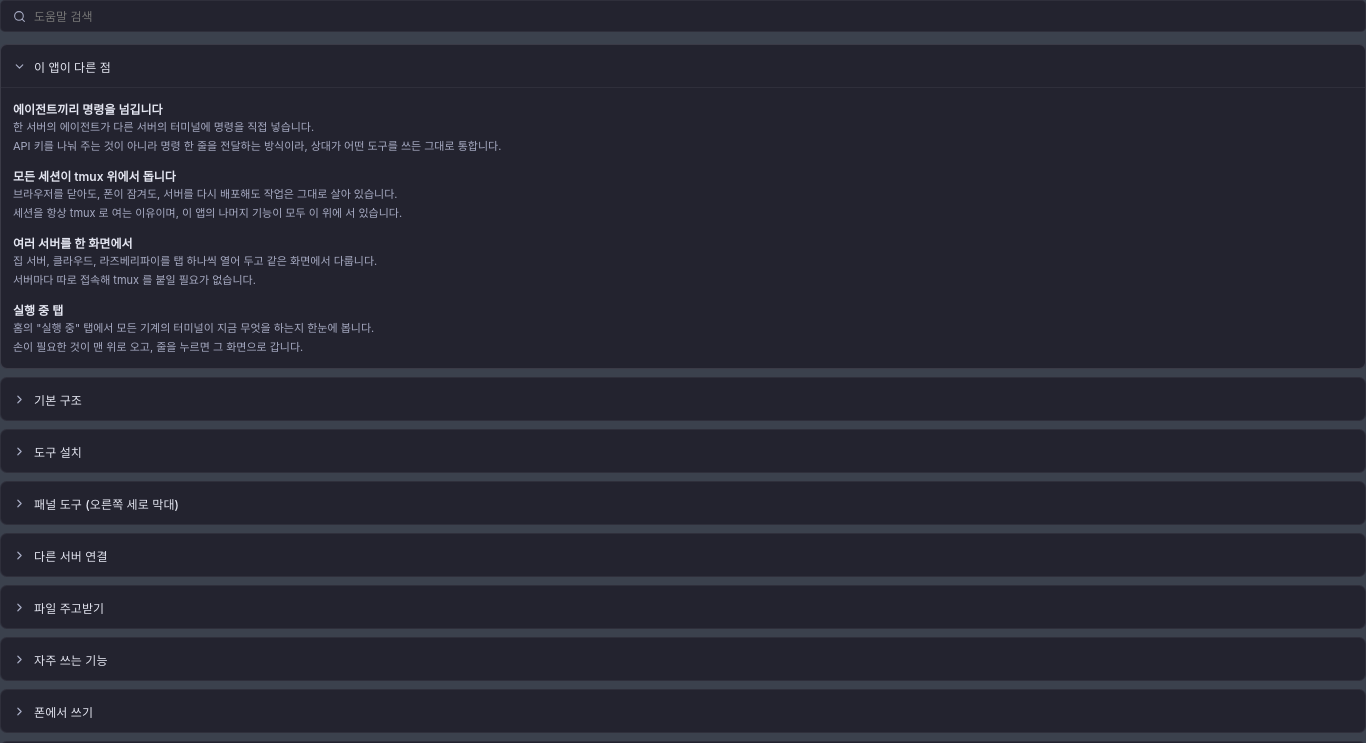
Test: HelpPanel › 검색 결과는 펼친 채로 나온다 — 접힌 결과는 못 찾은 것과 같다
This screenshot has width=1366, height=743.
Type "붙여넣" into the field with placeholder "도움말 검색" at [694, 16], box [34,8,1353,24]
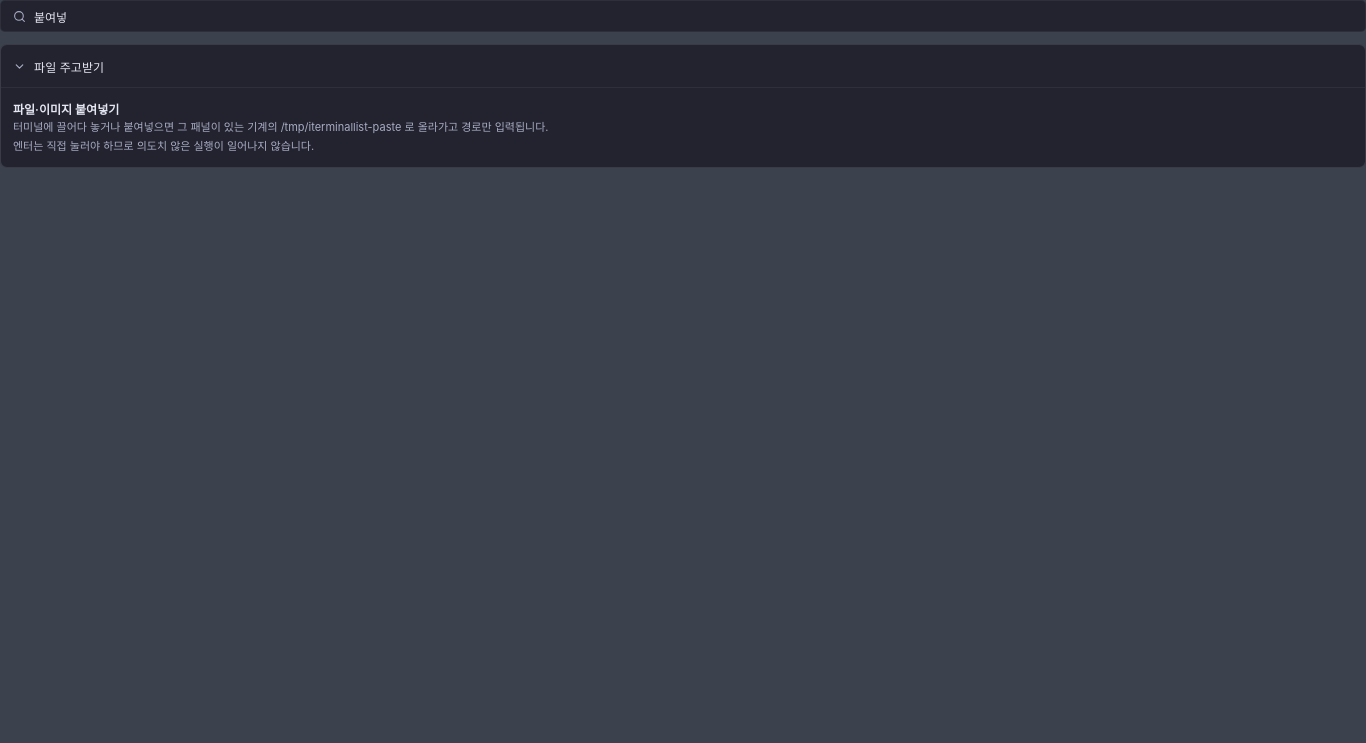
Result: the text "터미널에 끌어다 놓거나 붙여넣으면 그 패널이 있는 기계의 /tmp/iterminallist-paste 로 올라가고 경로만 입력됩니다." is shown at [13,120,548,134]
